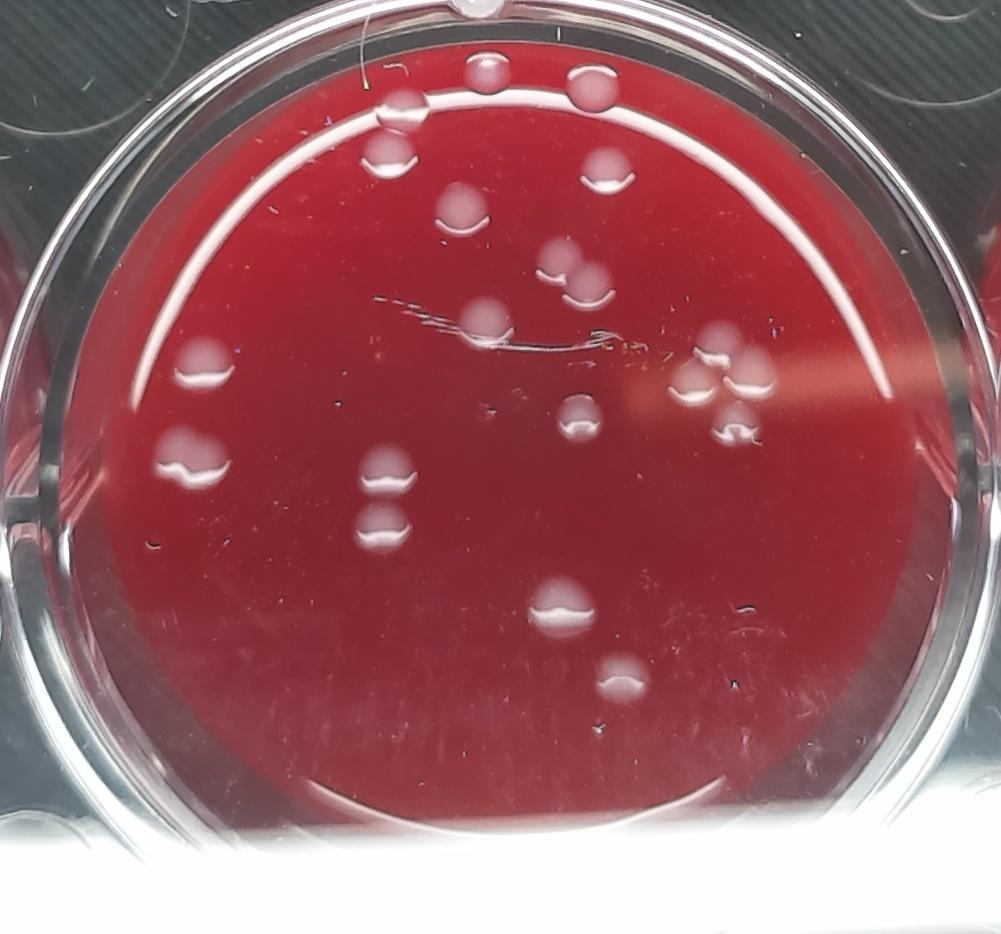pdpiscicida: (534, 232, 619, 312), (148, 420, 233, 493), (523, 569, 600, 643), (169, 333, 238, 400), (588, 647, 658, 712), (432, 178, 497, 239), (355, 439, 420, 499), (560, 57, 626, 116), (349, 498, 416, 555), (356, 128, 422, 184), (725, 345, 786, 404), (574, 143, 638, 199), (663, 352, 725, 409), (454, 293, 515, 350), (553, 389, 605, 447), (372, 84, 431, 134), (461, 48, 517, 98), (690, 317, 749, 364)
